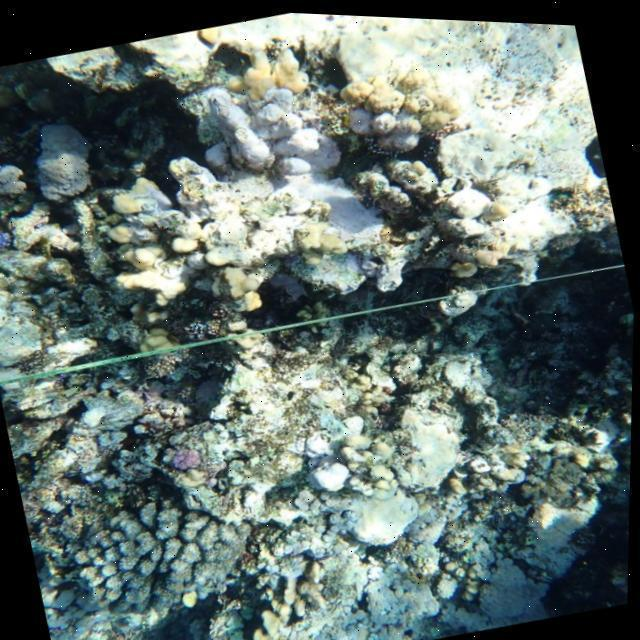Bleached Coral: (247, 444, 395, 570), (185, 74, 340, 177), (283, 175, 384, 252), (349, 107, 422, 152)
Healthy Coral: (163, 446, 202, 471)
